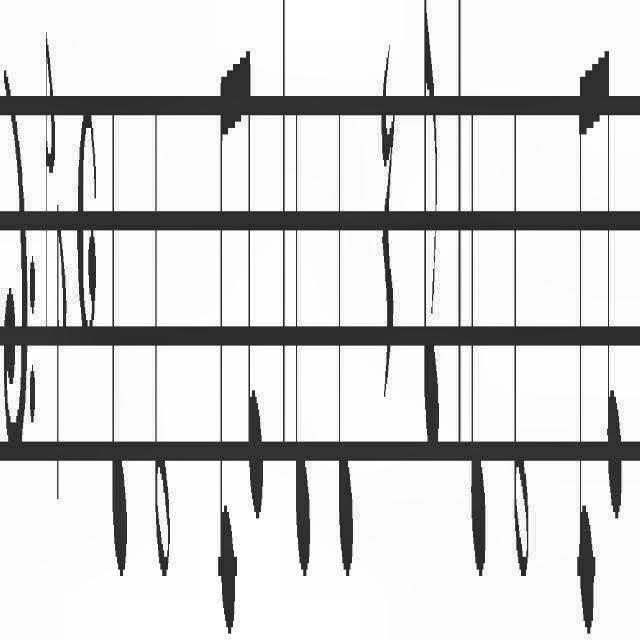Bemol: (44, 20, 56, 344), (56, 212, 68, 522)
Eighth-note: (217, 44, 239, 640), (576, 51, 596, 637), (601, 41, 623, 543), (244, 47, 264, 539), (422, 0, 438, 468)
Half-note: (512, 110, 530, 586), (154, 111, 170, 593)
Quarter-note: (110, 84, 128, 596), (337, 77, 355, 579), (294, 84, 310, 586), (470, 110, 486, 586)
Quarter-rest: (381, 30, 397, 418)
